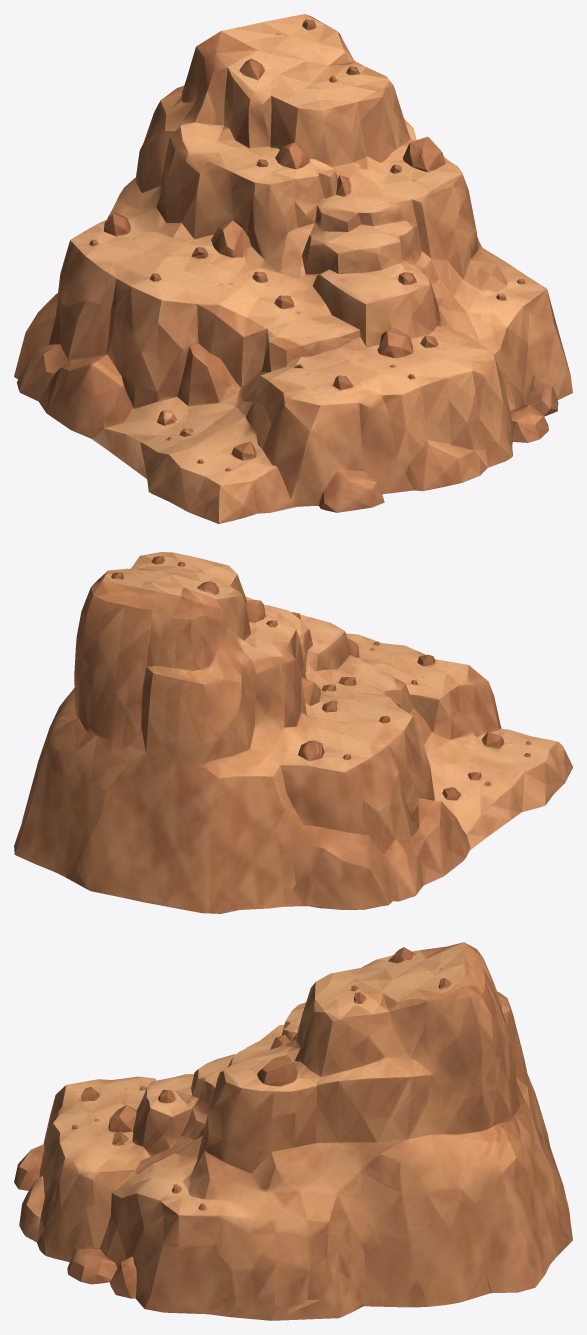
File: terrain-rock-hill.glb
The picture shows the model from 3 angles, top to bottom: view 1: azimuth 30°, elevation 25°; view 2: azimuth 150°, elevation 25°; view 3: azimuth 270°, elevation 25°; orthographic projection. The views are drawn at different scales.
Size of the model in its own units: 1.69 by 1.05 by 1.9.
Materials: 1 (1 with a texture image).
